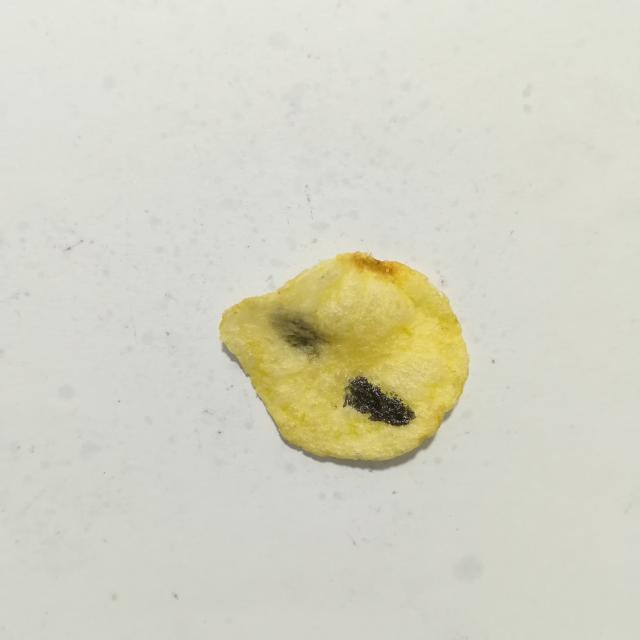chip: (219, 252, 469, 460)
damaged: (343, 376, 415, 427)
semi-damaged: (271, 307, 330, 362)
